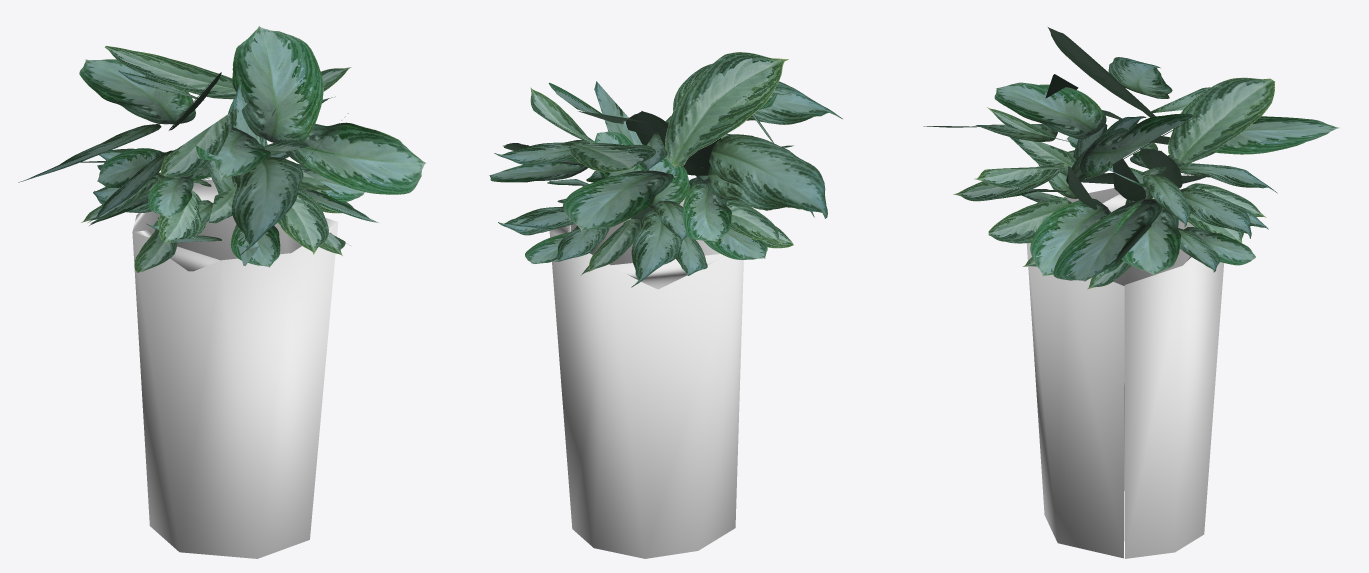
3 views of the same model, side by side, from view 1: azimuth 30°, elevation 25°; view 2: azimuth 150°, elevation 25°; view 3: azimuth 270°, elevation 25° (orthographic). The views are drawn at different scales.
Visible parts, largest first — view 1: potTall_aglaonema; view 2: potTall_aglaonema; view 3: potTall_aglaonema.
Boxes of the visible parts, bbox=[...] form: potTall_aglaonema: bbox=[18, 26, 426, 558]; potTall_aglaonema: bbox=[489, 52, 842, 558]; potTall_aglaonema: bbox=[923, 27, 1339, 558].
Size of the model in its own units: 1.33 by 1.62 by 1.36.
Materials: 2 (1 with a texture image).
